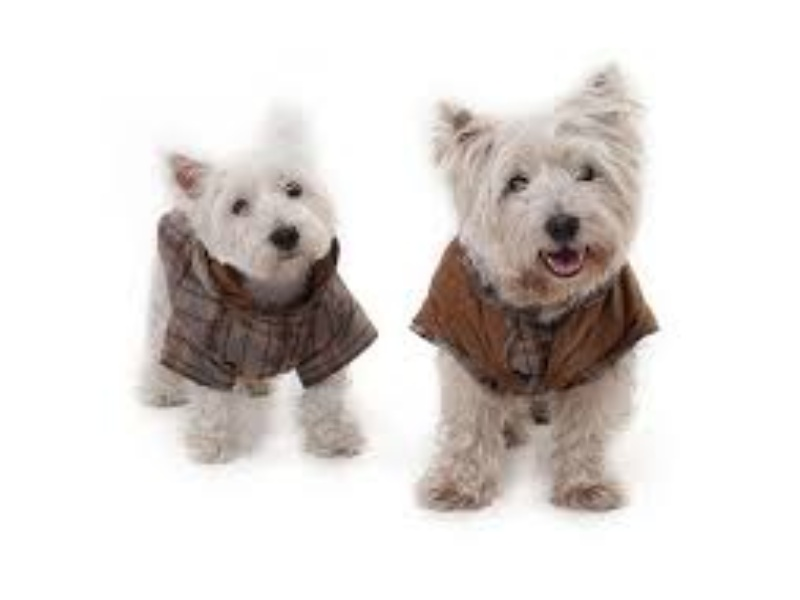dog: (411, 57, 681, 520), (123, 94, 383, 466)
